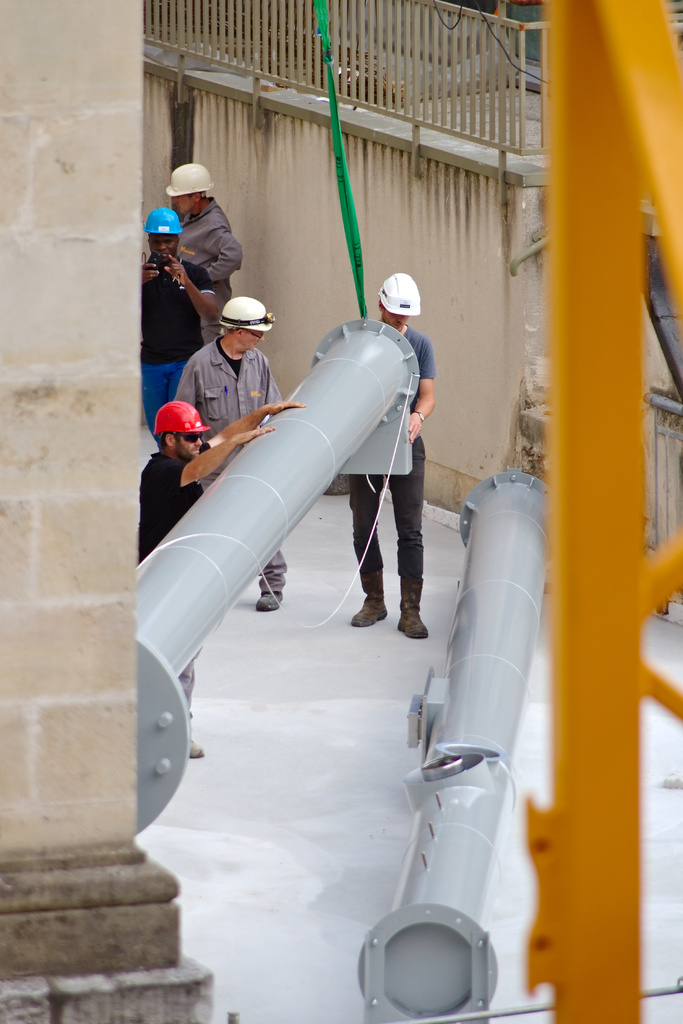Person: (137, 399, 304, 759), (174, 297, 289, 612), (351, 273, 436, 638), (140, 206, 221, 451), (166, 160, 244, 345)
